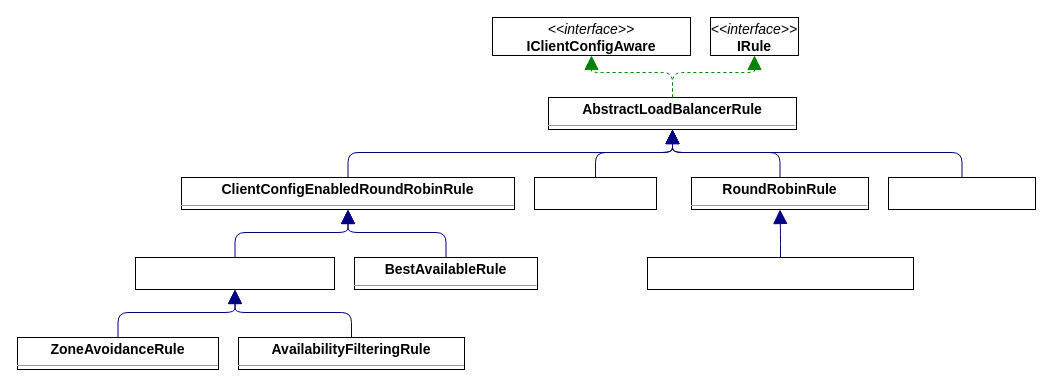
The diagram is 1053 pixels wide and 387 high, and some of its shapes have lost their labels. The shapes that lost their labels are listed below. From the top down, each one's box as (x1, y1, x2, y2) in pixels, then its label:
(534, 176, 656, 210): RetryRule
(888, 176, 1036, 210): RandomRule
(134, 256, 334, 290): PredicateBasedRule
(646, 256, 914, 290): WeightedResponseTimeRule
